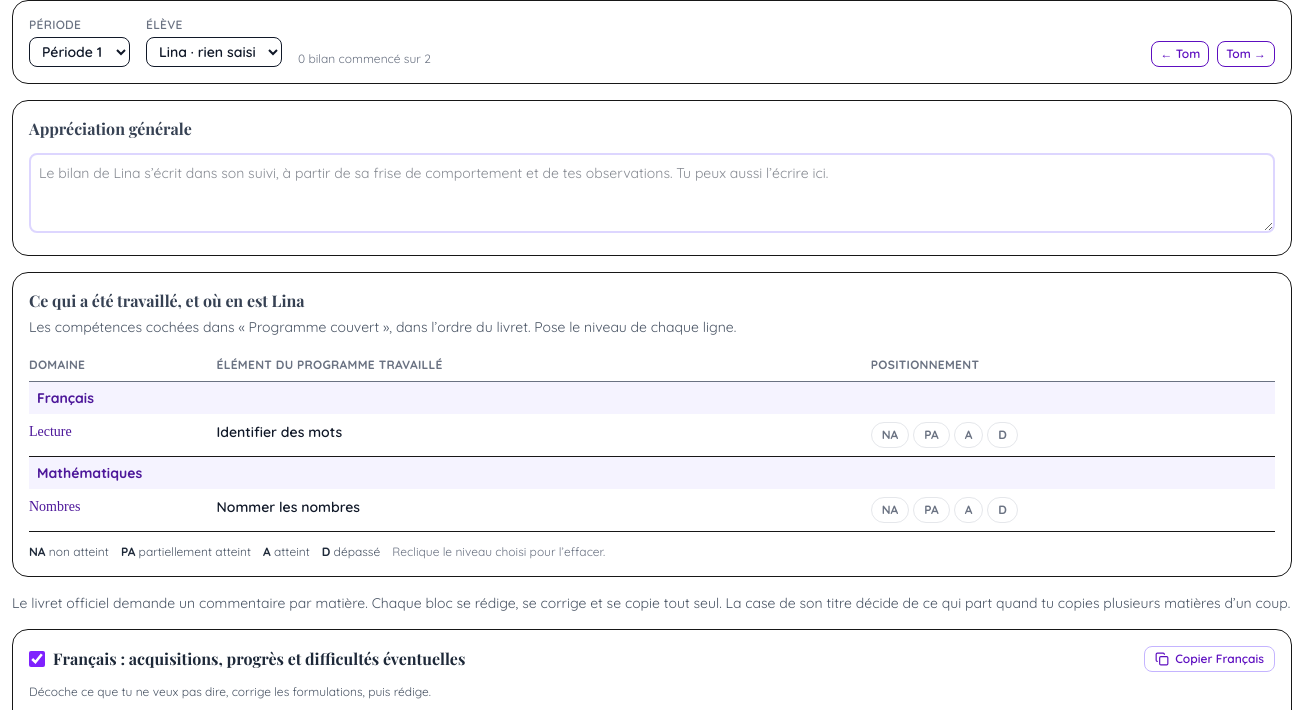
Scenario: Livret › le dit quand aucune compétence n’est cochée sur la période
Select "Période 2" in the dropdown labelled "Période" at (80, 52), box [29, 37, 130, 67]
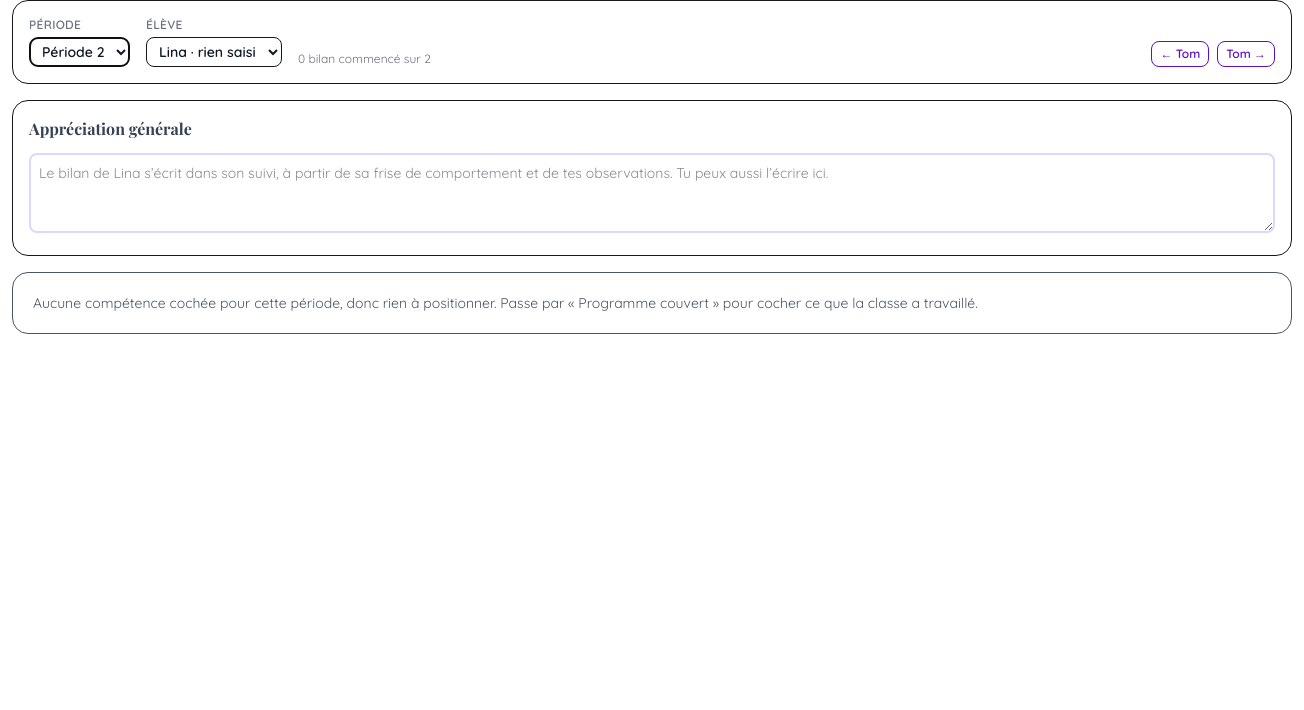
Expected: the text "Aucune compétence cochée pour cette période" is shown, [33, 294, 978, 312]
